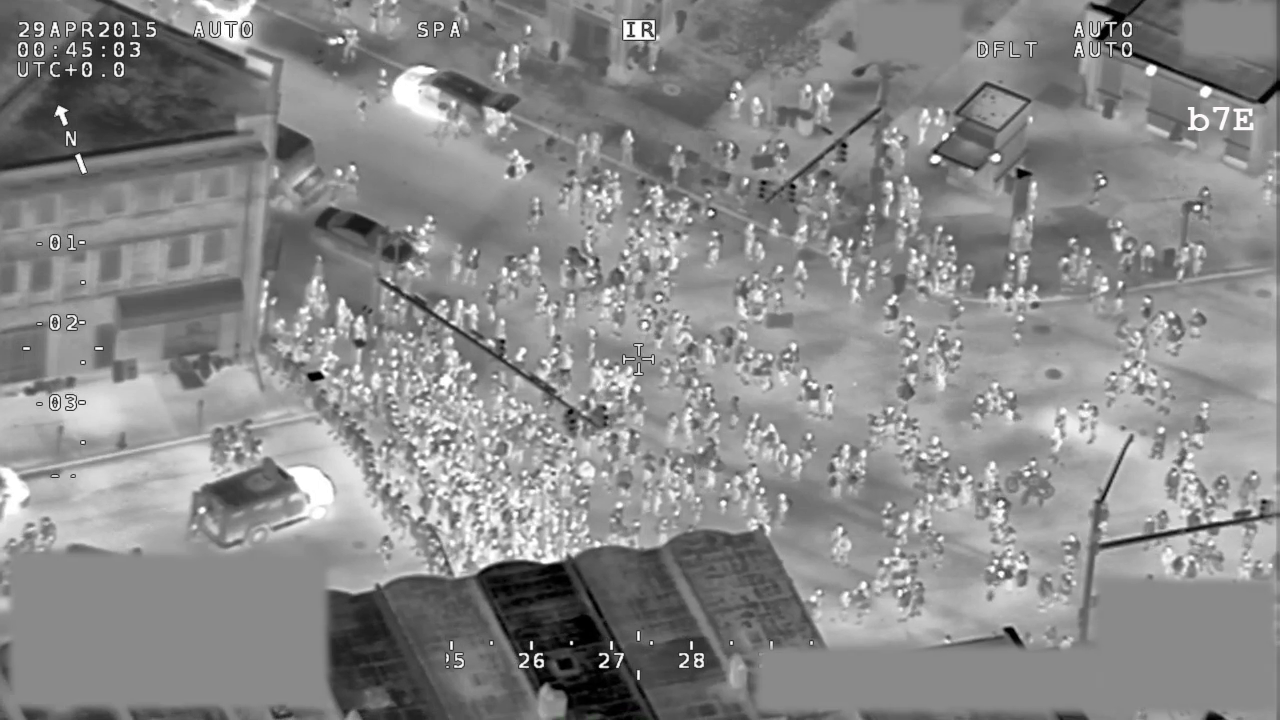vehicle: (190, 454, 338, 556), (383, 57, 523, 136), (311, 202, 420, 273)
